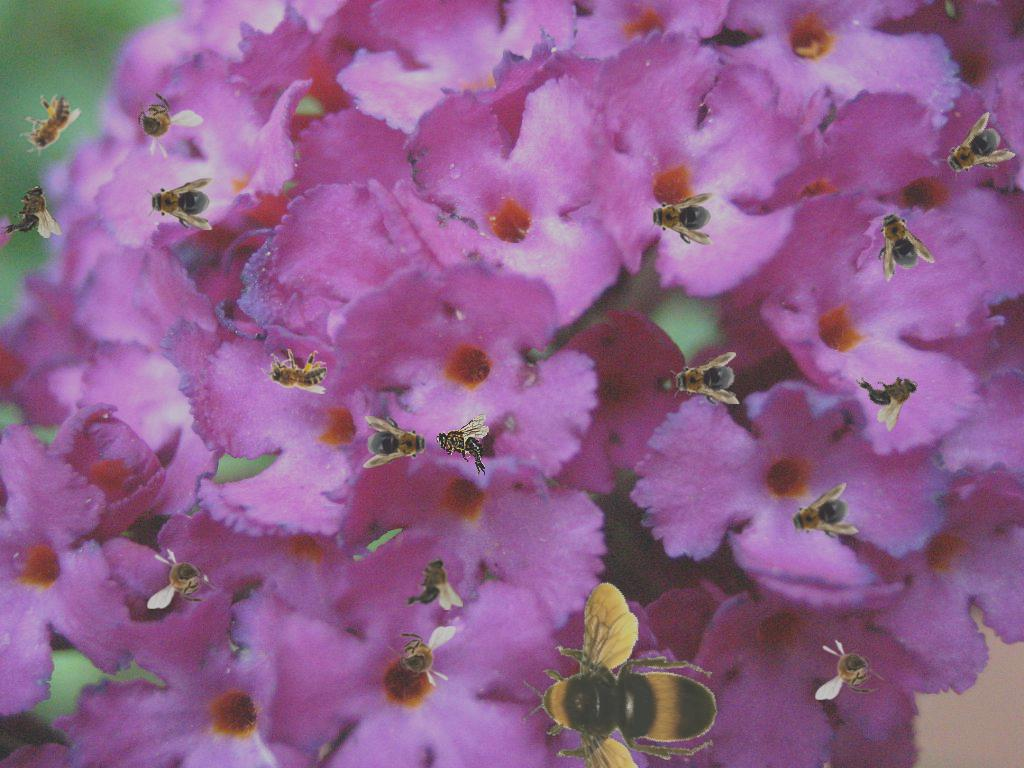Bee: (482, 555, 752, 768), (112, 77, 205, 169), (932, 111, 1018, 193), (852, 352, 931, 434), (860, 200, 936, 284), (10, 85, 84, 166), (780, 482, 862, 552), (668, 351, 742, 411), (147, 548, 217, 609), (386, 626, 456, 687), (815, 639, 885, 700), (363, 416, 431, 468), (146, 178, 214, 230), (647, 193, 715, 245), (401, 557, 463, 610), (0, 185, 62, 238), (436, 414, 489, 476), (261, 349, 327, 394)
